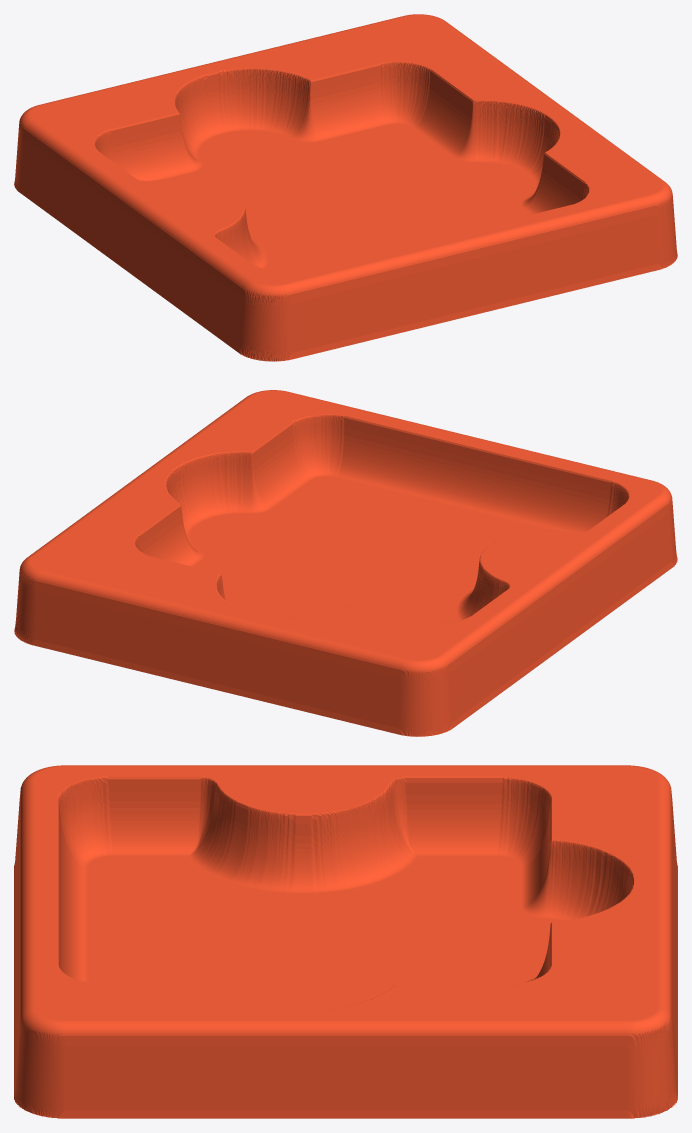
File: mold.glb
3 views of the same model, one above another, from view 1: azimuth 30°, elevation 25°; view 2: azimuth 150°, elevation 25°; view 3: azimuth 270°, elevation 25° (orthographic). The views are drawn at different scales.
Parts seen in each view (by area): view 1: geometry_0; view 2: geometry_0; view 3: geometry_0.
Part boxes in pixels (x1=…): geometry_0: x1=14, y1=14, x2=677, y2=361; geometry_0: x1=14, y1=390, x2=677, y2=736; geometry_0: x1=14, y1=765, x2=677, y2=1118.
Size of the model in its own units: 0.1138 by 0.0175 by 0.1178.
